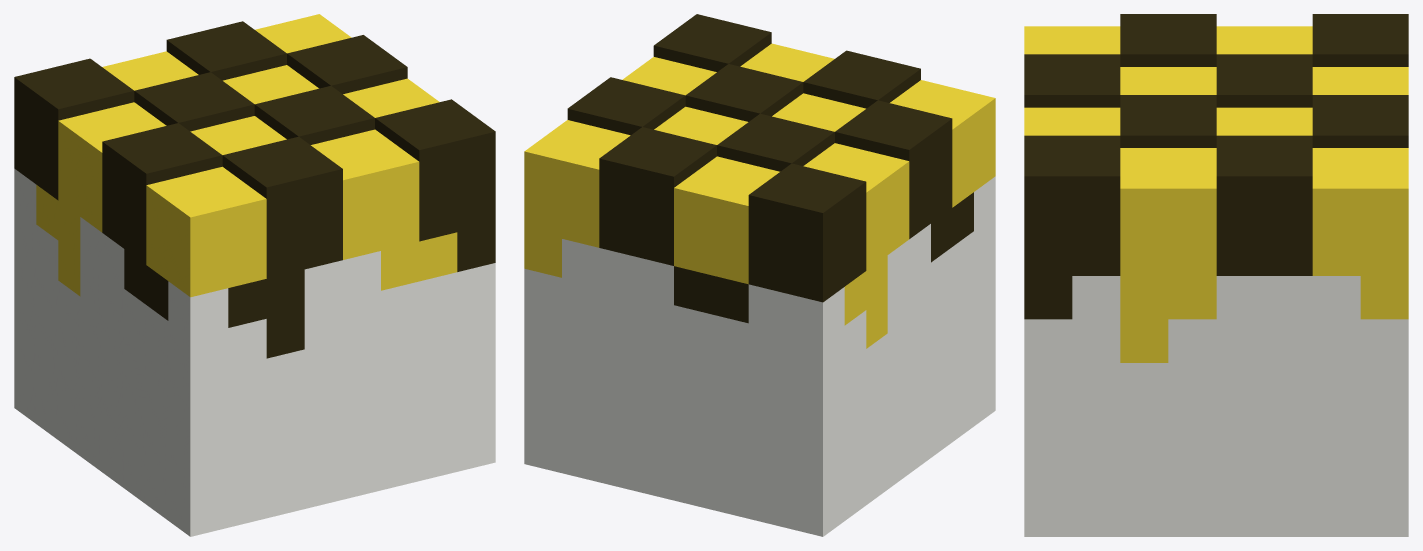
Rendered from Goal_Assets.fbx.
3 views of the same model, side by side, from view 1: azimuth 30°, elevation 25°; view 2: azimuth 150°, elevation 25°; view 3: azimuth 270°, elevation 25° (orthographic). The views are drawn at different scales.
Visible parts, largest first — view 1: Goal; view 2: Goal; view 3: Goal.
Boxes of the visible parts, x1,y1,x2,y2 form: Goal: (14, 14, 495, 536); Goal: (524, 14, 995, 536); Goal: (1024, 14, 1408, 536).
Size of the model in its own units: 200 by 207 by 200.
